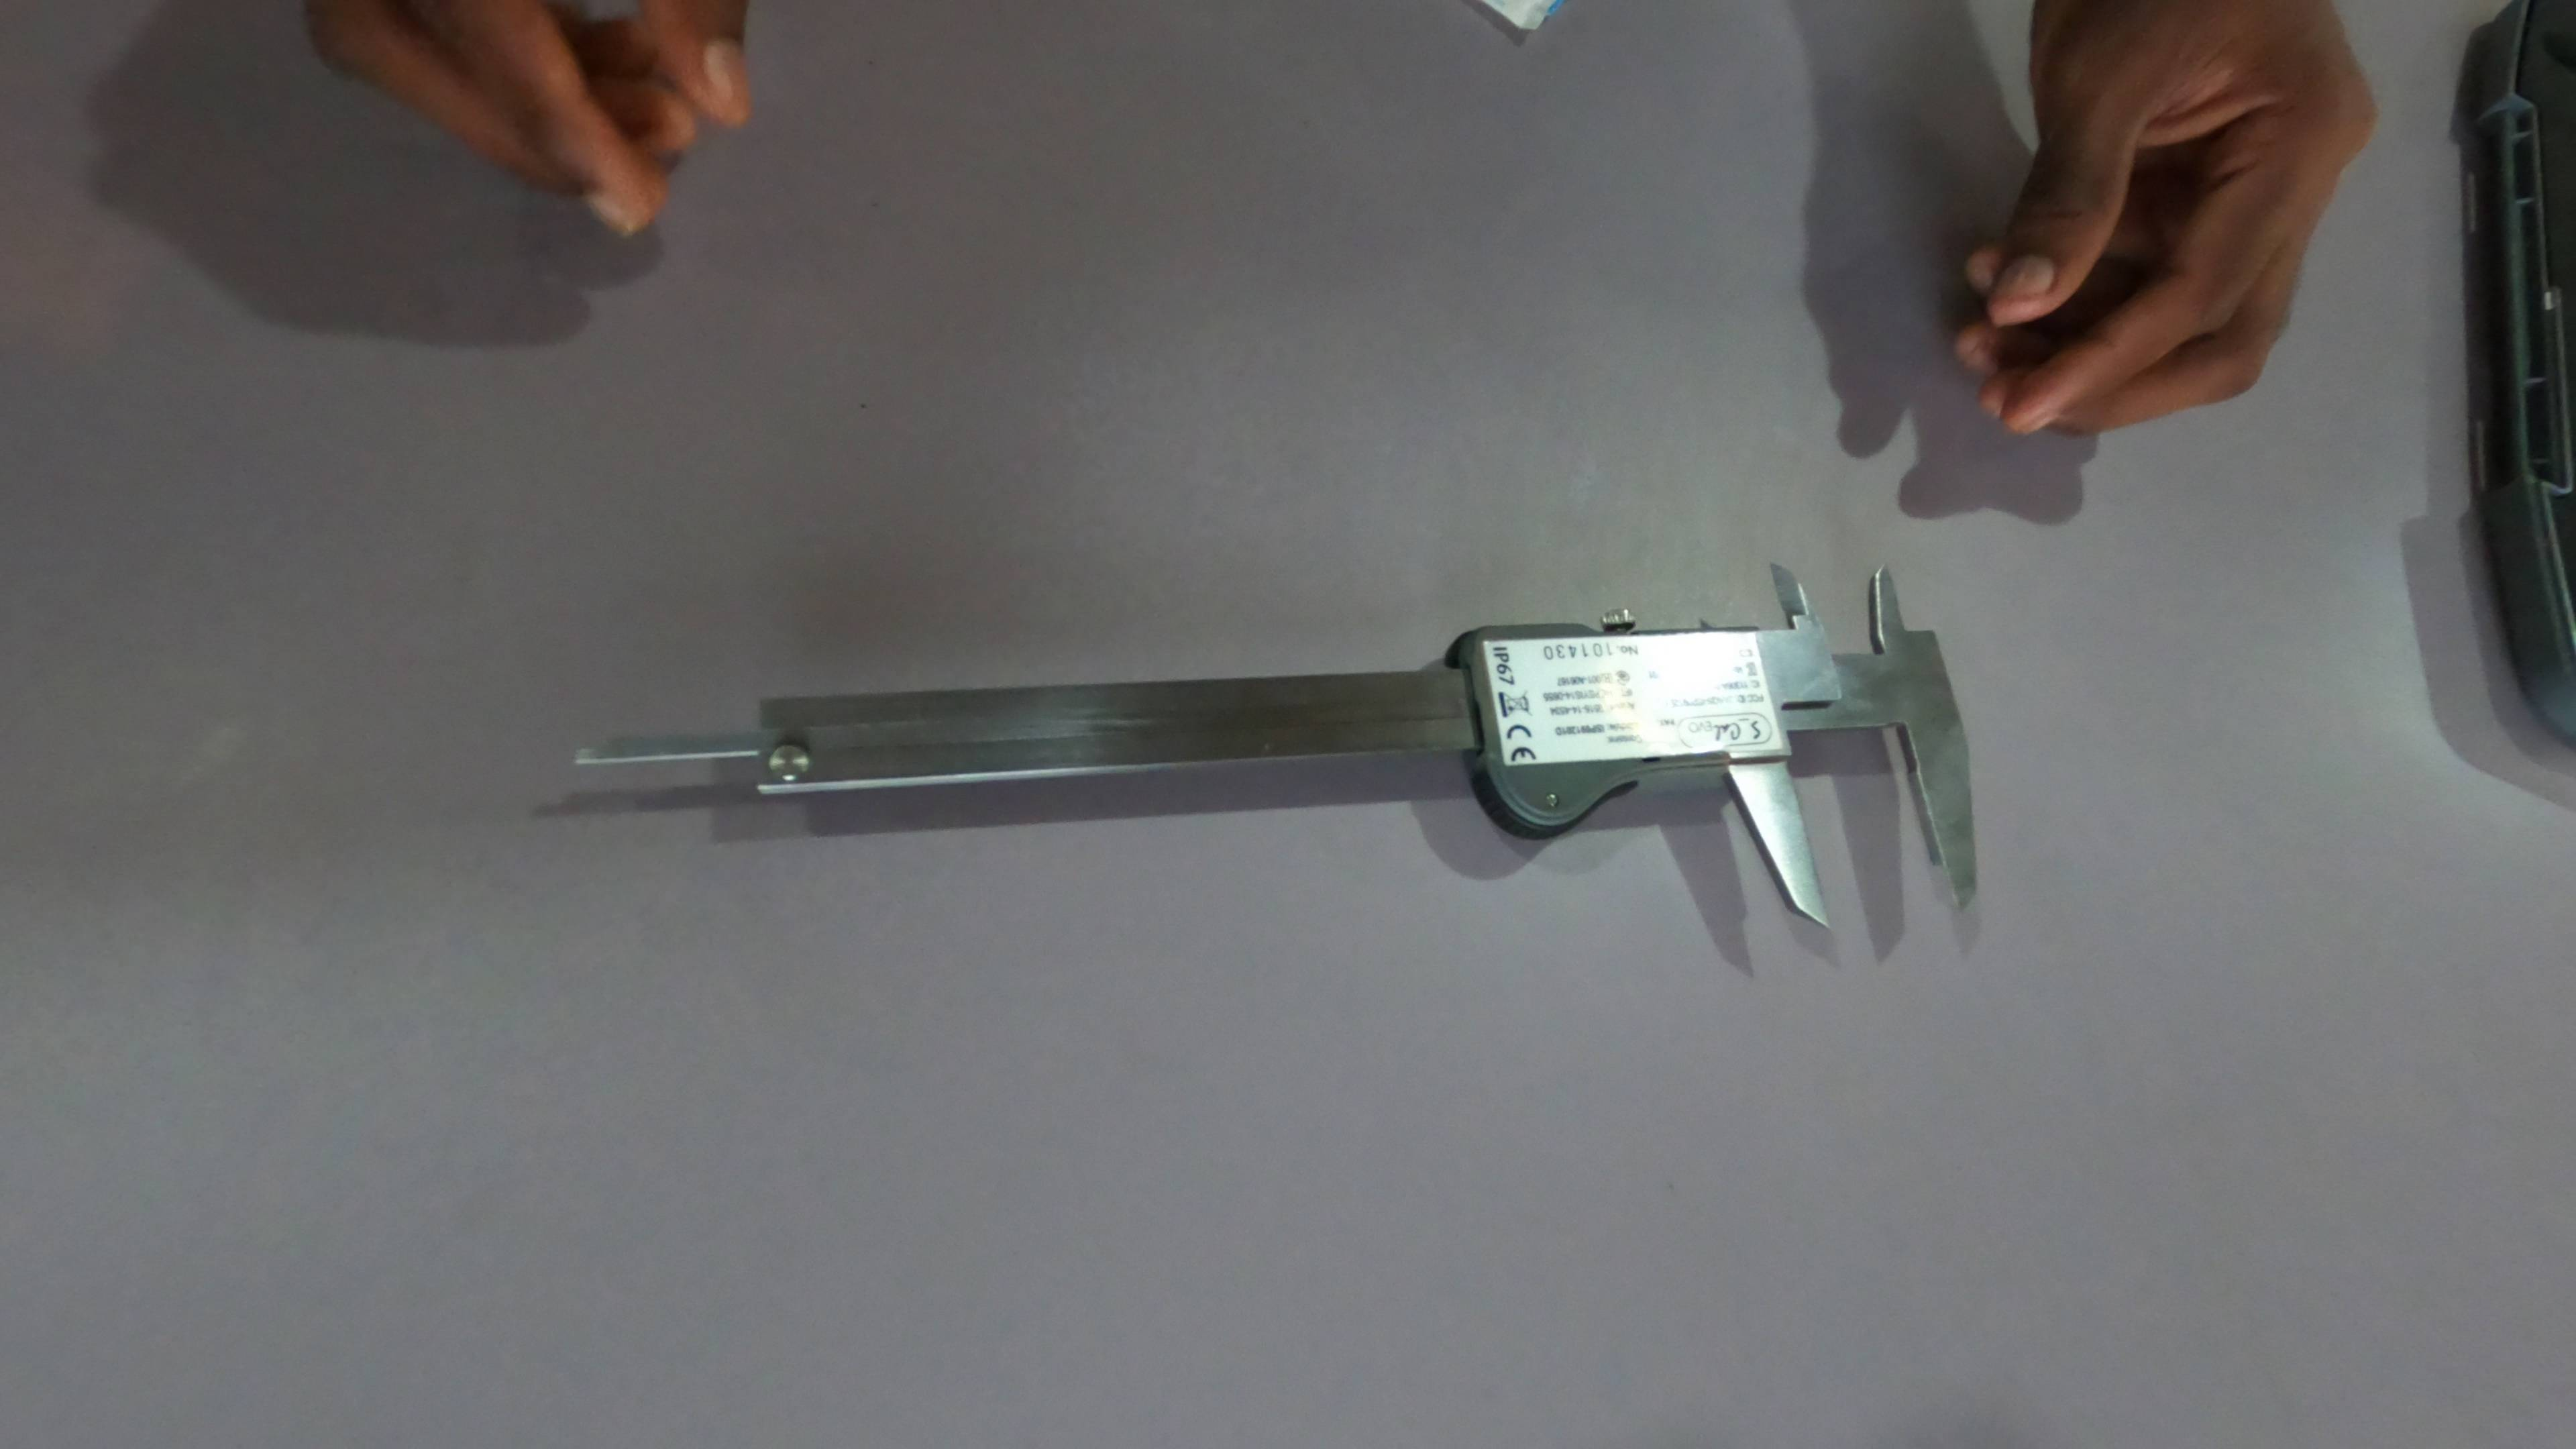vernier_caliper: (579, 566, 1985, 920)
